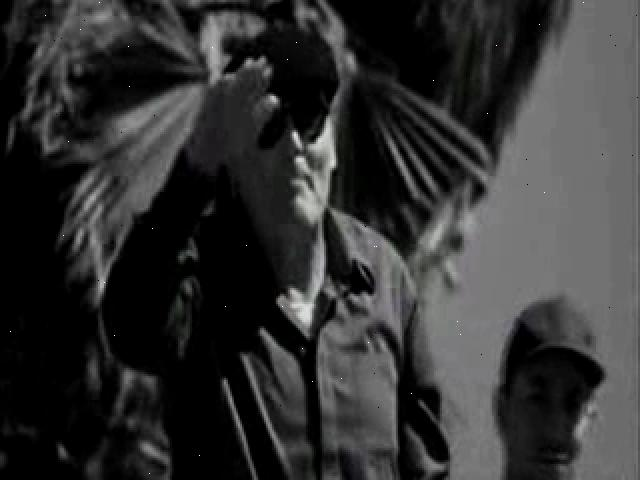T: (101, 18, 452, 479)
